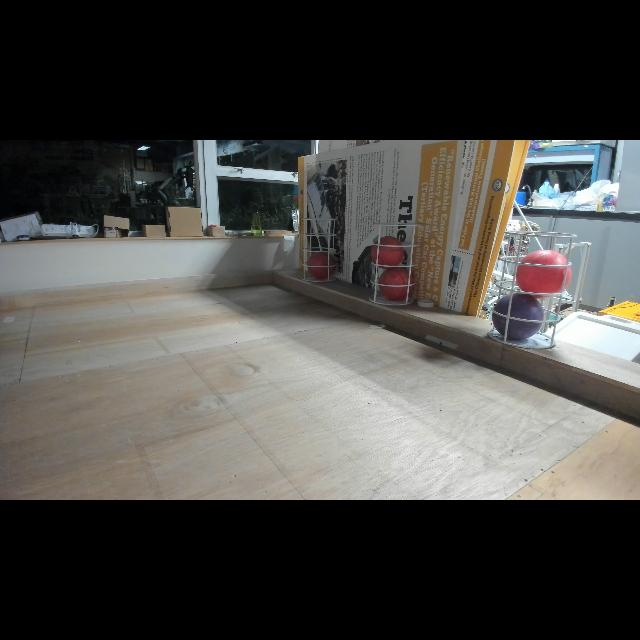P: (492, 293, 546, 341)
R: (516, 249, 572, 299), (378, 267, 416, 301), (371, 237, 405, 270), (306, 252, 336, 280)
S: (486, 229, 578, 351), (368, 222, 422, 306), (300, 217, 338, 283)
